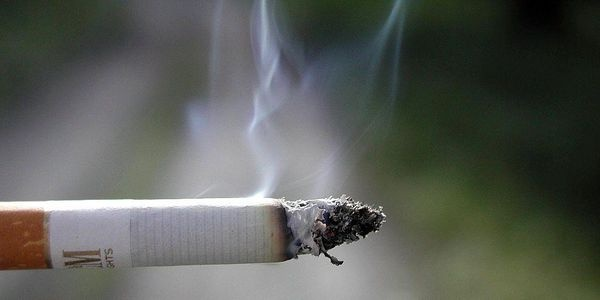sigaretta: (1, 192, 407, 268)
